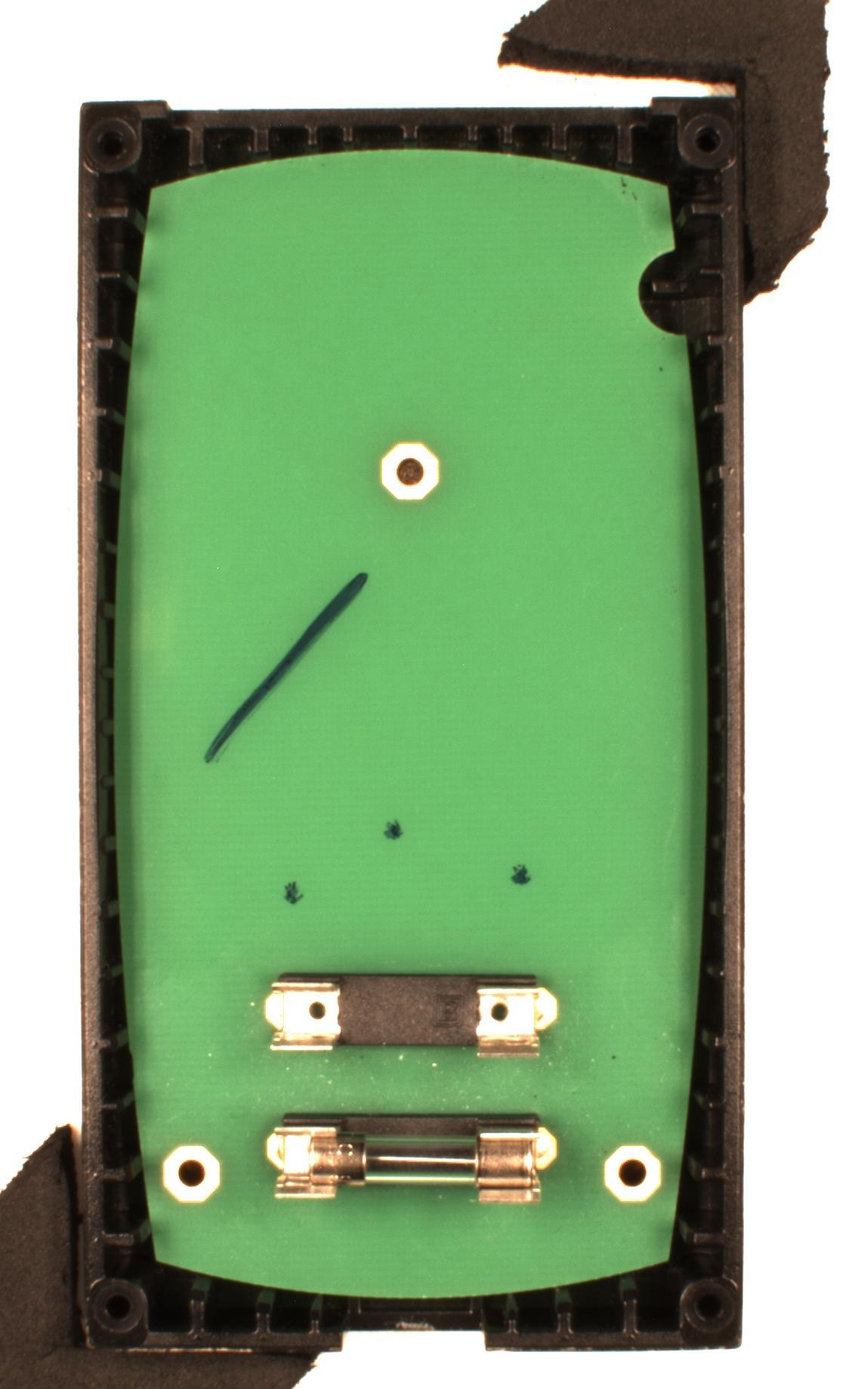Linijsko Ostecene: (201, 569, 369, 766)
Nepostojanje osiguraca: (263, 971, 559, 1060)
Tockasto Ostecenje: (283, 881, 303, 906), (510, 862, 531, 885), (383, 818, 403, 841)
